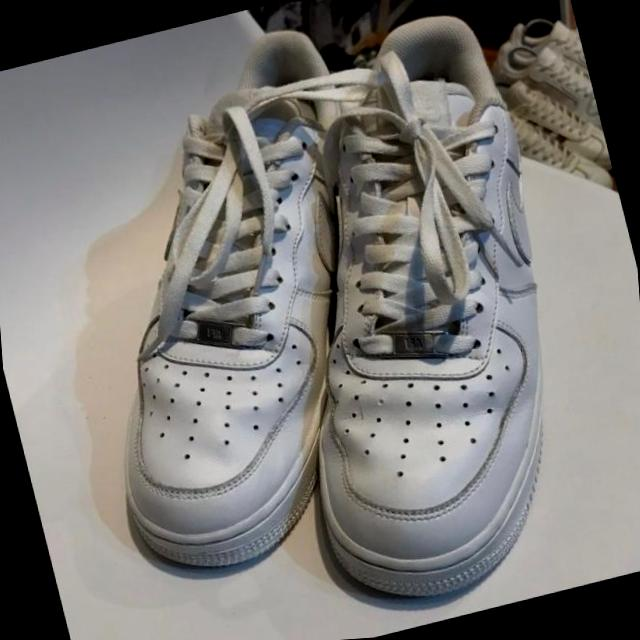nike_original_airforce: (204, 0, 619, 623), (18, 10, 440, 596)
